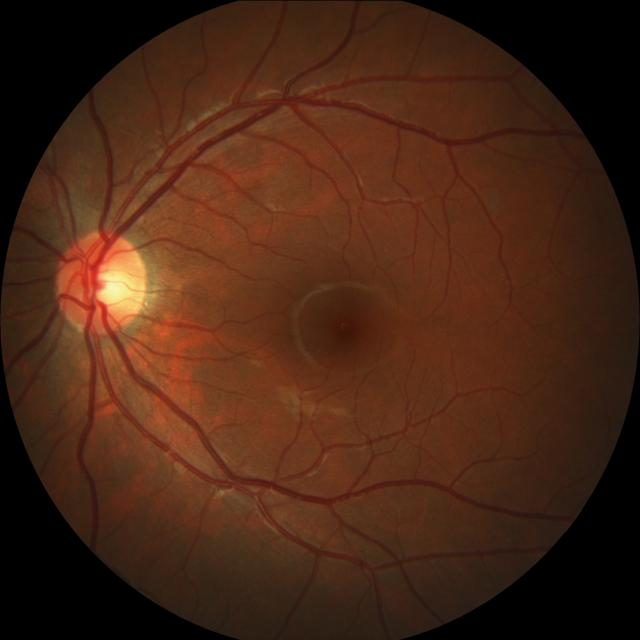OC: (86, 261, 130, 306)
OD: (54, 228, 147, 334)
